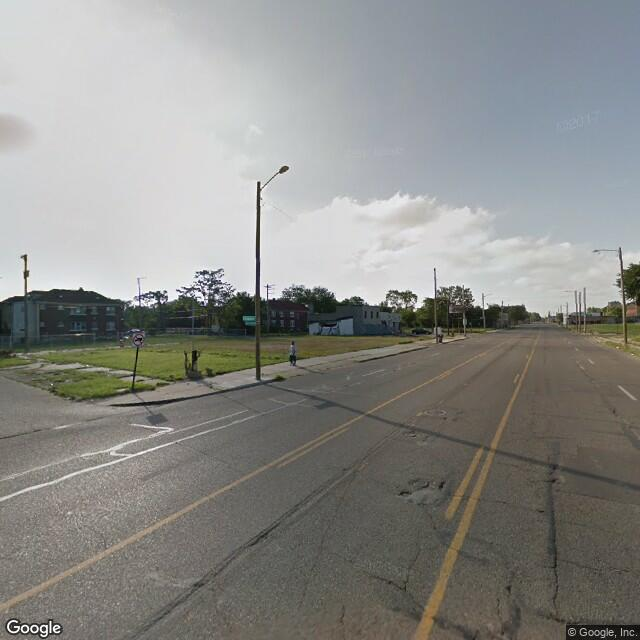litter: (615, 344, 619, 350), (631, 352, 632, 354)
